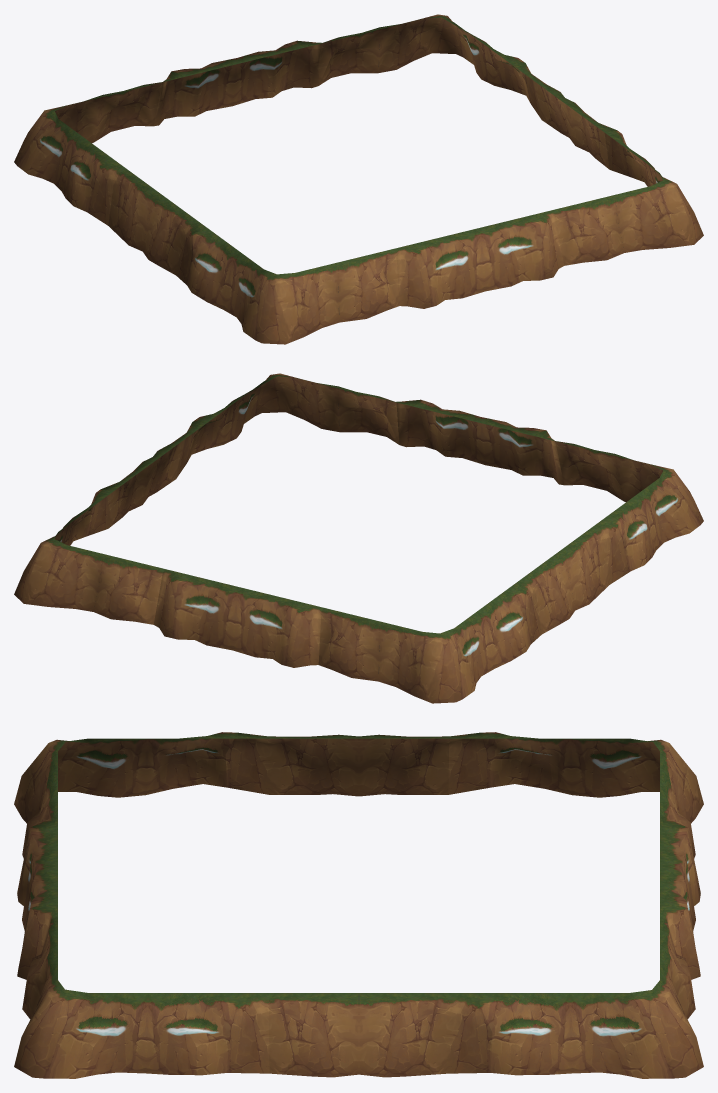
The model's file is sn_zdcj_obj04.FBX.
3 views of the same model, one above another, from view 1: azimuth 30°, elevation 25°; view 2: azimuth 150°, elevation 25°; view 3: azimuth 270°, elevation 25° (orthographic). The views are drawn at different scales.
Visible parts, largest first — view 1: snft_dzst004, snft_dzst005, snft_dzst006, snft_dzst002, snft_dzst008, snft_dzst001, snft_dzst003, snft_dzst007; view 2: snft_dzst002, snft_dzst001, snft_dzst008, snft_dzst004, snft_dzst006, snft_dzst005, snft_dzst003, snft_dzst007; view 3: snft_dzst006, snft_dzst008, snft_dzst007, snft_dzst002, snft_dzst003, snft_dzst004, snft_dzst001, snft_dzst005.
Boxes of the visible parts, box(x1,y1,x2,y2) form: snft_dzst004: box(187, 227, 399, 344); snft_dzst005: box(394, 210, 564, 308); snft_dzst006: box(552, 122, 703, 265); snft_dzst002: box(14, 81, 164, 225); snft_dzst008: box(318, 14, 530, 102); snft_dzst001: box(154, 40, 322, 126); snft_dzst003: box(108, 169, 206, 285); snft_dzst007: box(511, 63, 609, 169); snft_dzst002: box(318, 578, 541, 703); snft_dzst001: box(153, 569, 323, 667); snft_dzst008: box(14, 489, 165, 624); snft_dzst004: box(553, 440, 703, 570); snft_dzst006: box(176, 373, 399, 478); snft_dzst005: box(395, 399, 563, 485); snft_dzst003: box(523, 520, 630, 634); snft_dzst007: box(87, 431, 194, 536); snft_dzst006: box(14, 917, 269, 1078); snft_dzst008: box(479, 917, 703, 1078); snft_dzst007: box(268, 993, 492, 1077); snft_dzst002: box(448, 732, 703, 858); snft_dzst003: box(225, 732, 449, 796); snft_dzst004: box(14, 732, 238, 858); snft_dzst001: box(660, 815, 700, 979); snft_dzst005: box(17, 815, 57, 979).
Size of the model in its own units: 91.57 by 10.29 by 91.72.
